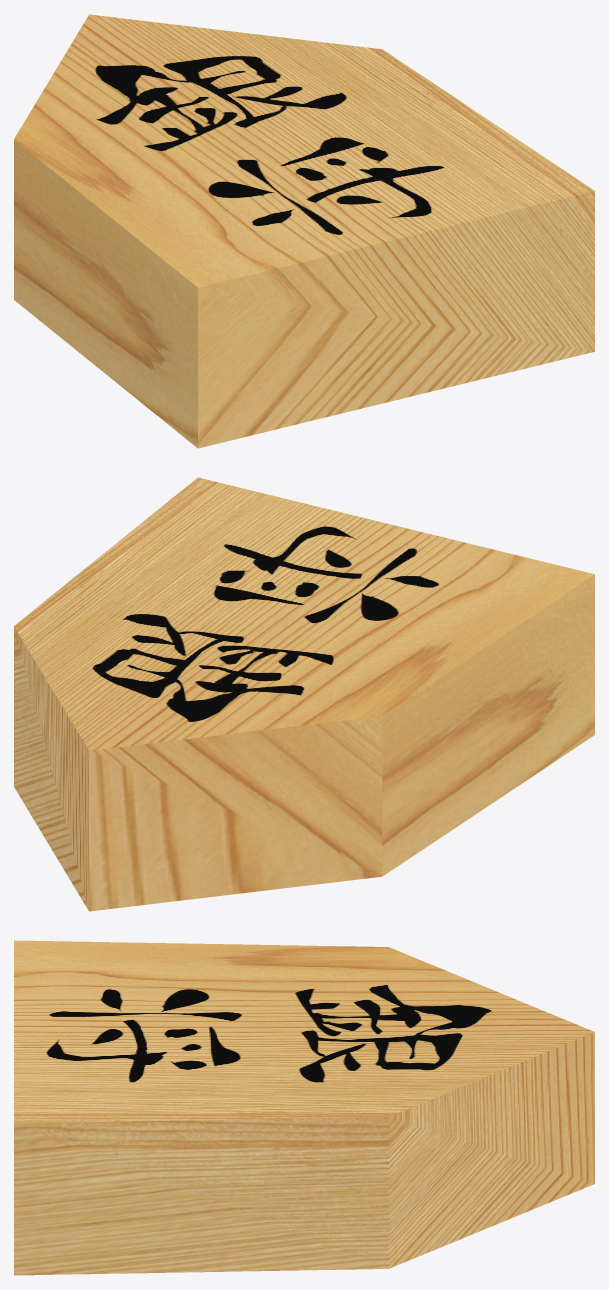
File: koma_gin.gltf
3 views of the same model, one above another, from view 1: azimuth 30°, elevation 25°; view 2: azimuth 150°, elevation 25°; view 3: azimuth 270°, elevation 25° (orthographic). The views are drawn at different scales.
Parts seen in each view (by area): view 1: Cylinder; view 2: Cylinder; view 3: Cylinder.
Part boxes in pixels (x1,y1,x2,y2): Cylinder: (14, 14, 594, 448); Cylinder: (14, 477, 594, 911); Cylinder: (14, 940, 594, 1275).
Size of the model in its own units: 1.29 by 0.5 by 1.73.
1 material, 1 textured.
